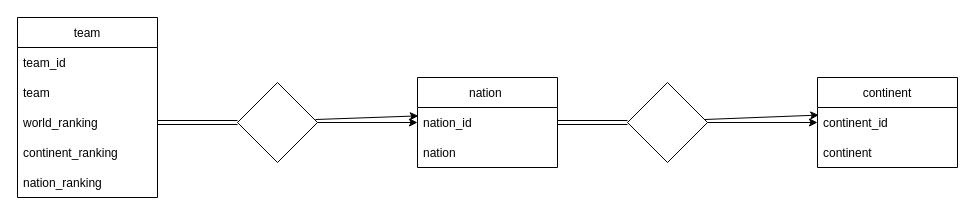
The diagram is 975 pixels wide and 215 high, and some of its shapes have lost their labels. Each missing label, with the centre of its shape:
berlokasi: the point at 667,122
bernegara: the point at 277,122
